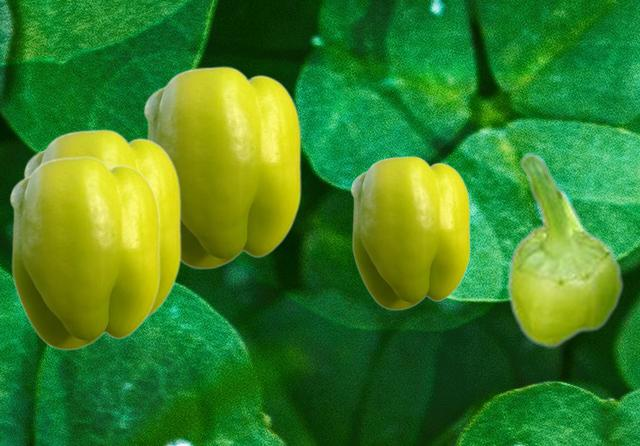bell_pepper: (143, 65, 300, 268), (23, 128, 180, 317), (9, 155, 159, 349), (506, 153, 623, 347), (350, 155, 469, 309)
